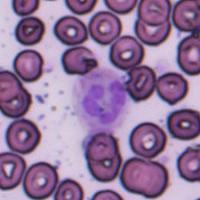N: (72, 67, 130, 134)
